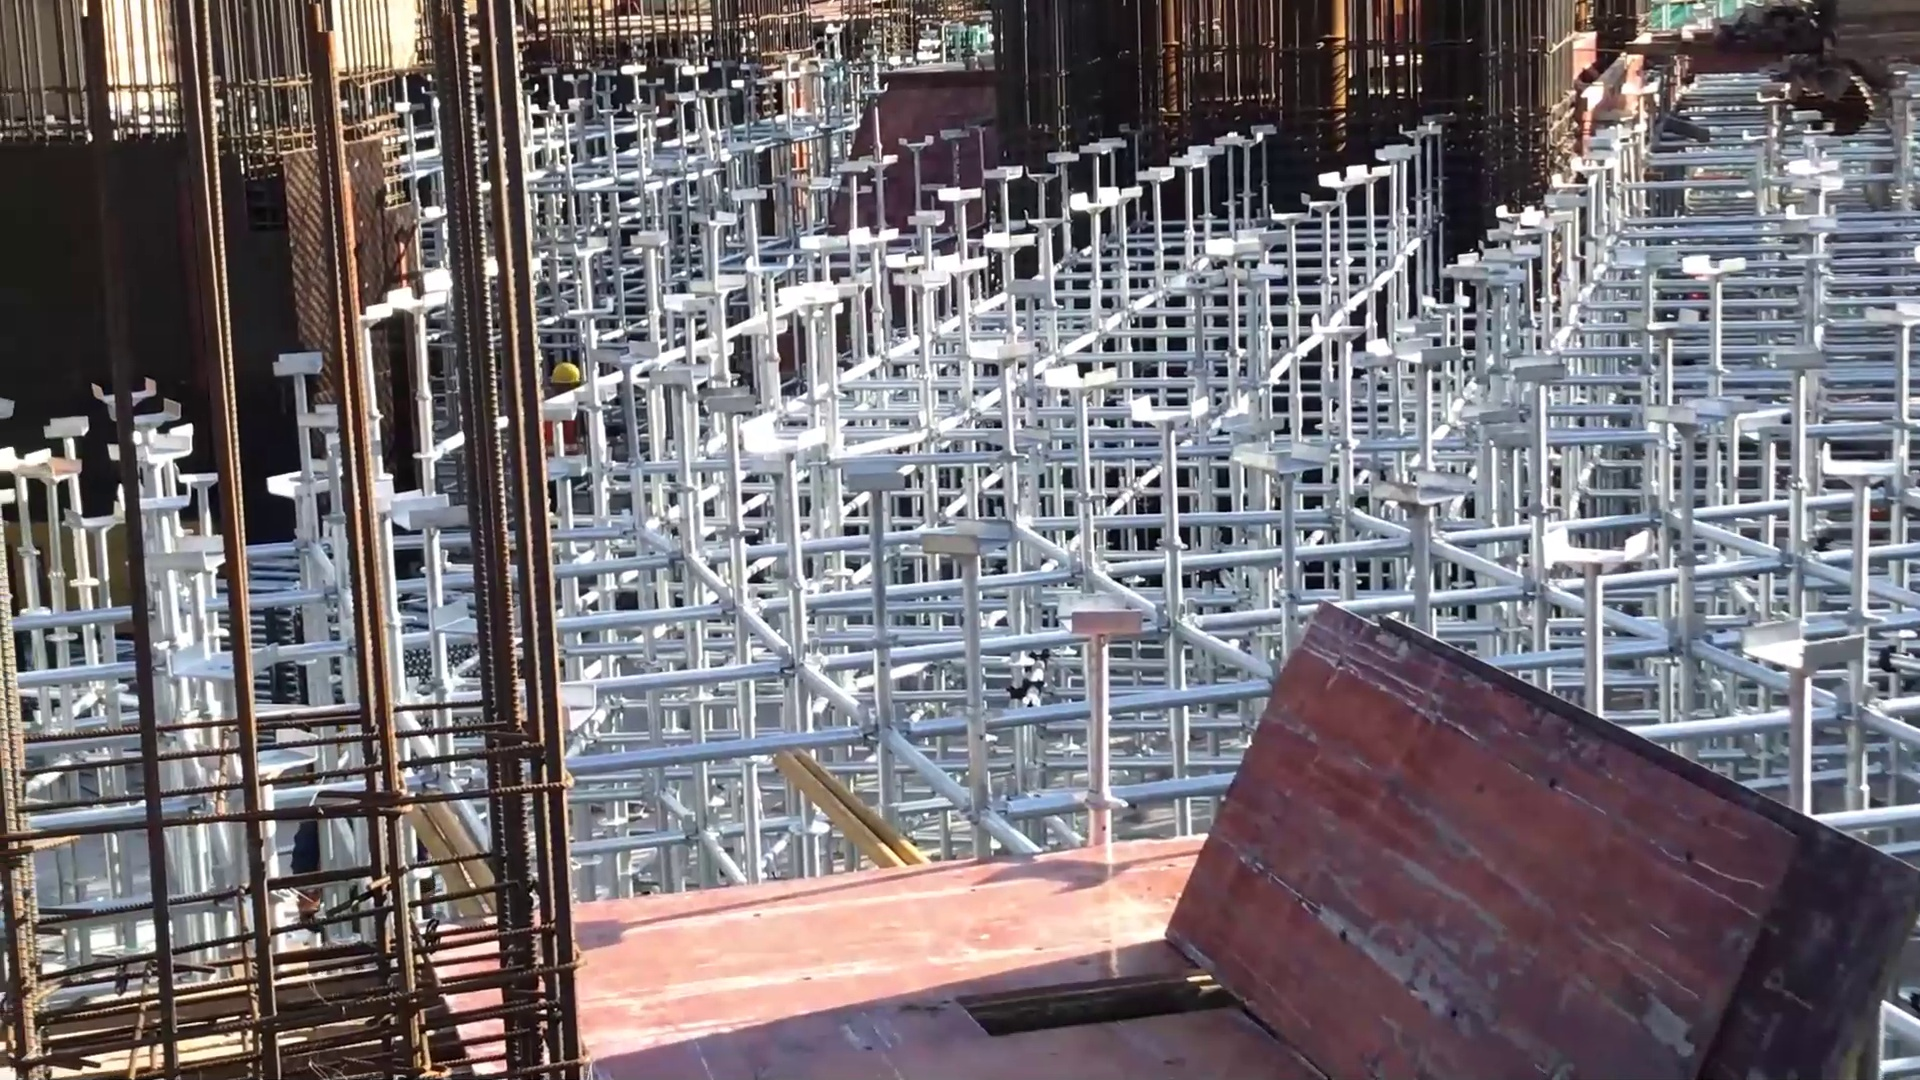helmet: (547, 343, 605, 388)
